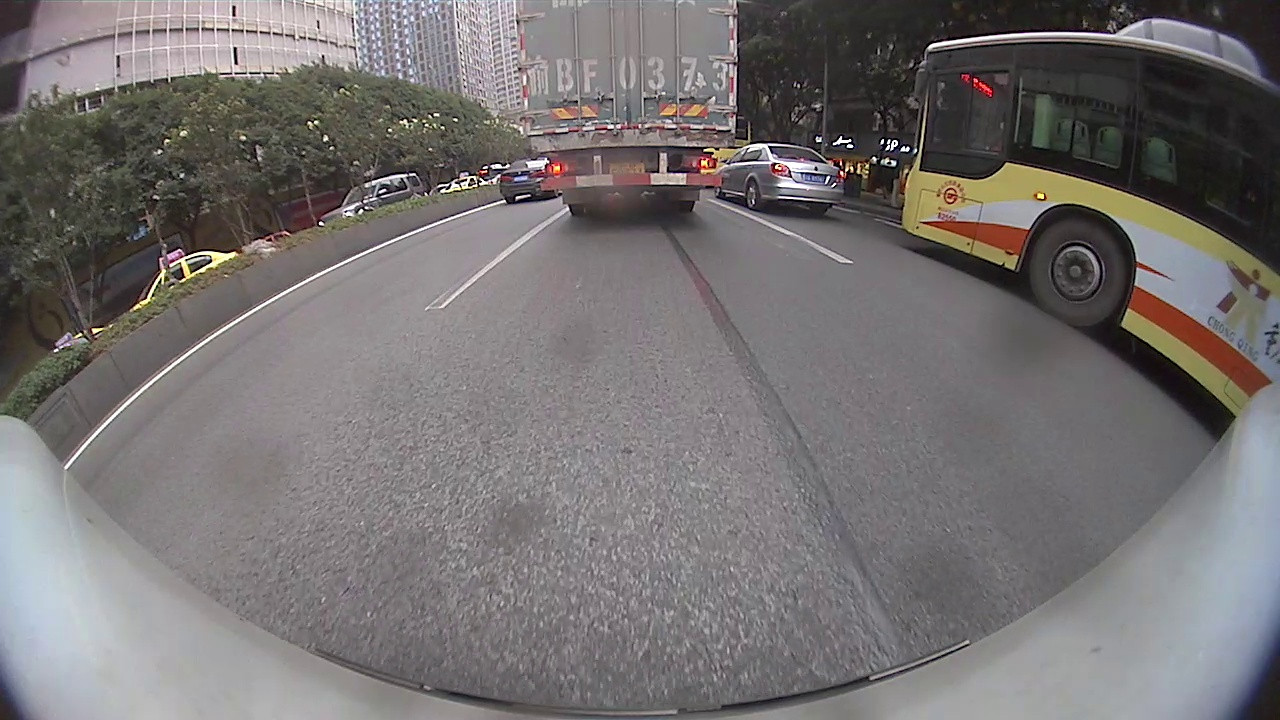bus: (904, 21, 1279, 417)
car: (714, 143, 847, 217), (499, 158, 567, 200)
front: (1024, 214, 1131, 329)
rear: (745, 179, 762, 211)
truck: (517, 0, 739, 214)
